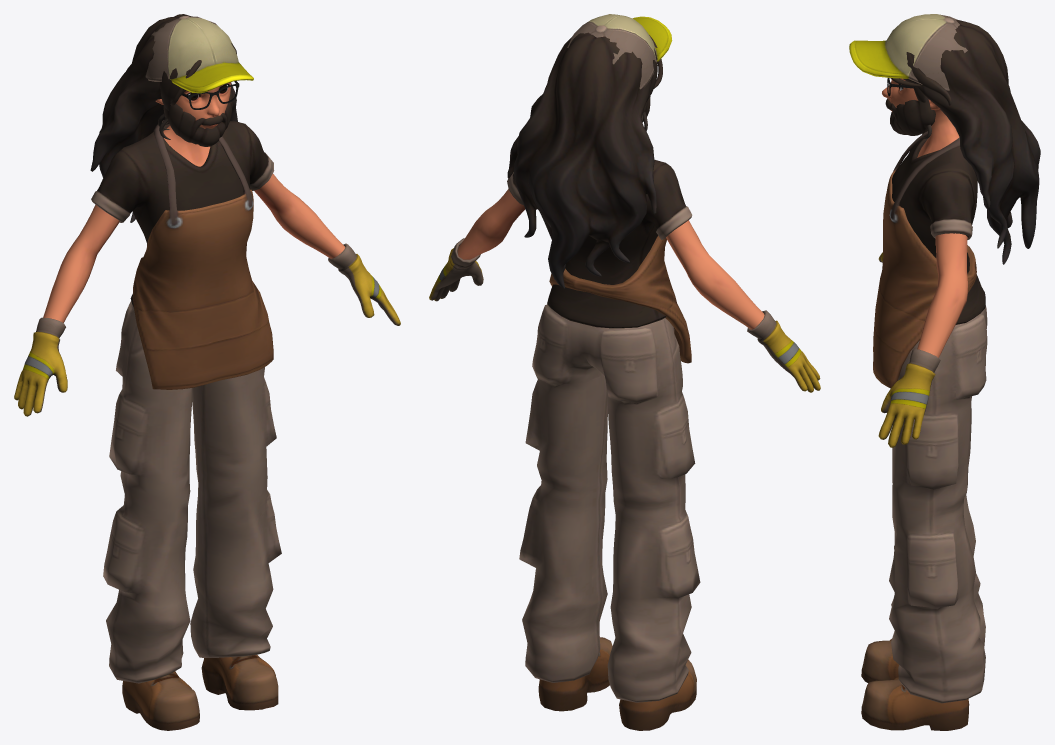
The model's file is HardwareChris_Mesh.obj.
The picture shows the model from 3 angles, left to right: view 1: azimuth 30°, elevation 25°; view 2: azimuth 150°, elevation 25°; view 3: azimuth 270°, elevation 25°; orthographic projection.
Parts seen in each view (by area): view 1: HardwareChris_Mesh_0; view 2: HardwareChris_Mesh_0; view 3: HardwareChris_Mesh_0.
Boxes of the visible parts, <box> form: HardwareChris_Mesh_0: <box>14,14,400,730</box>; HardwareChris_Mesh_0: <box>429,14,820,730</box>; HardwareChris_Mesh_0: <box>849,14,1040,730</box>.
Bounding box in the file's own units: 1.06 × 1.83 × 0.4633.
1 material, 1 textured.
